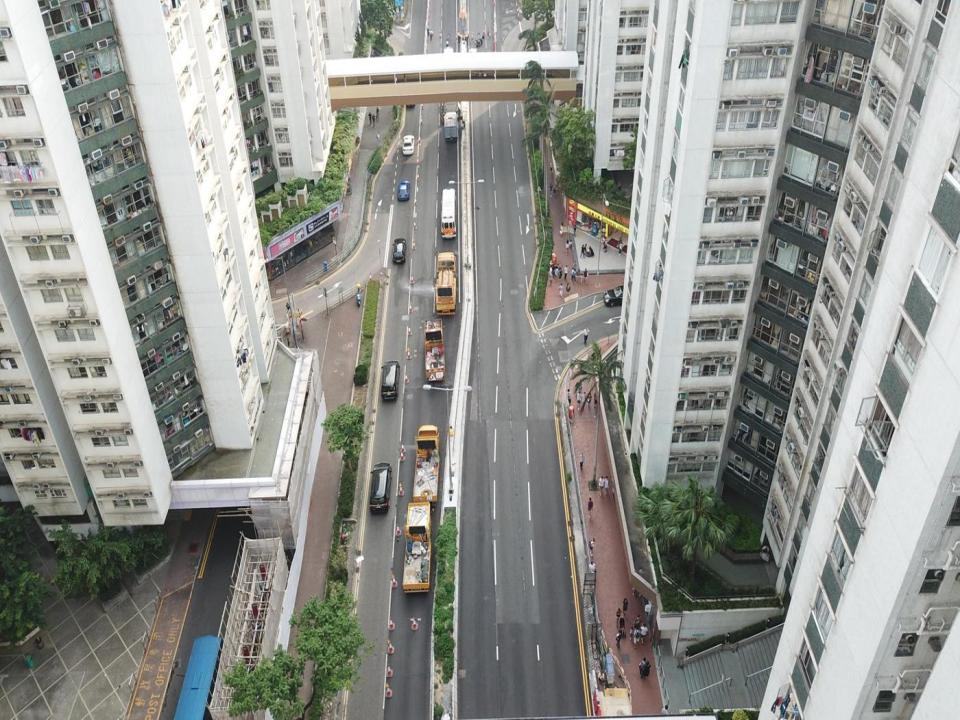bus: (443, 47, 457, 114), (440, 188, 457, 238)
car: (604, 284, 632, 308), (401, 136, 415, 154), (398, 179, 410, 200)
truck: (402, 501, 430, 592), (412, 425, 441, 507), (434, 250, 457, 316), (424, 319, 445, 381), (444, 110, 457, 142)
van: (370, 462, 392, 513), (382, 360, 400, 400), (392, 239, 406, 263)
